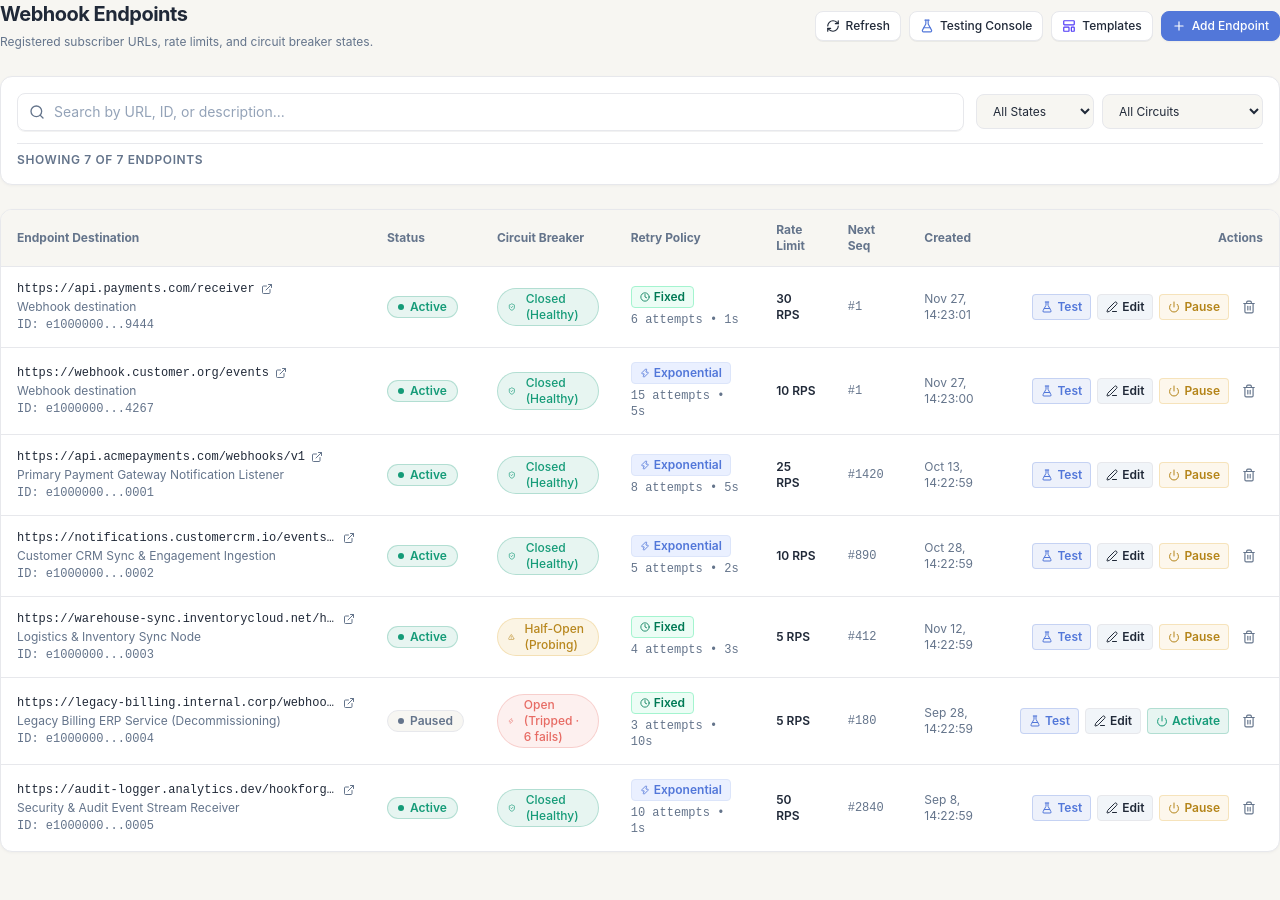
Test: Phase 2, Task 3: Custom Retry Policies (Frontend) › 6. EndpointsPage Integration › opens Edit modal when clicking Edit action button
Click the button "Edit" in the row of "30". click: (1125, 306)
box: [1097,294,1153,320]
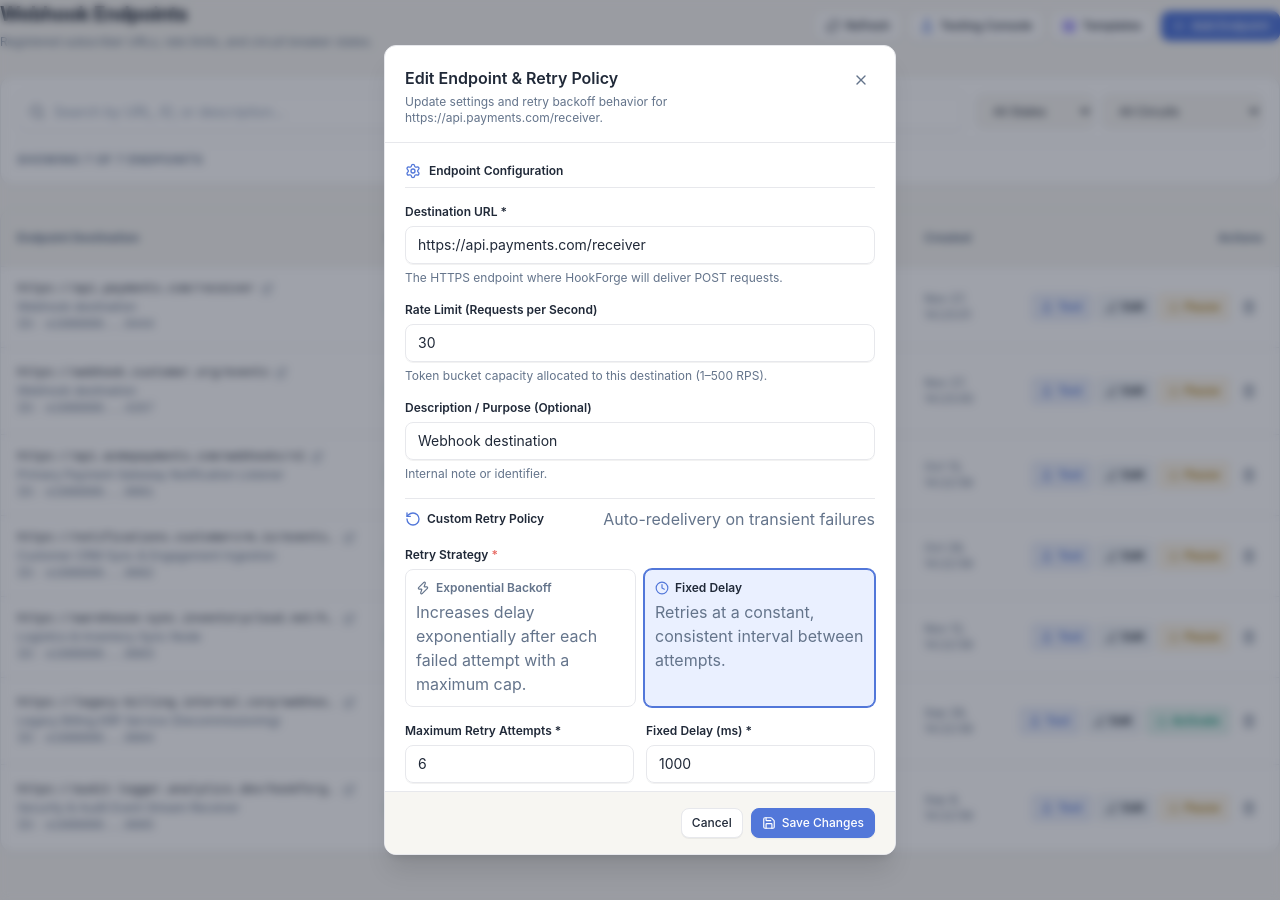
Result: the heading "Edit Endpoint & Retry Policy" is shown at [405,68,618,88]
